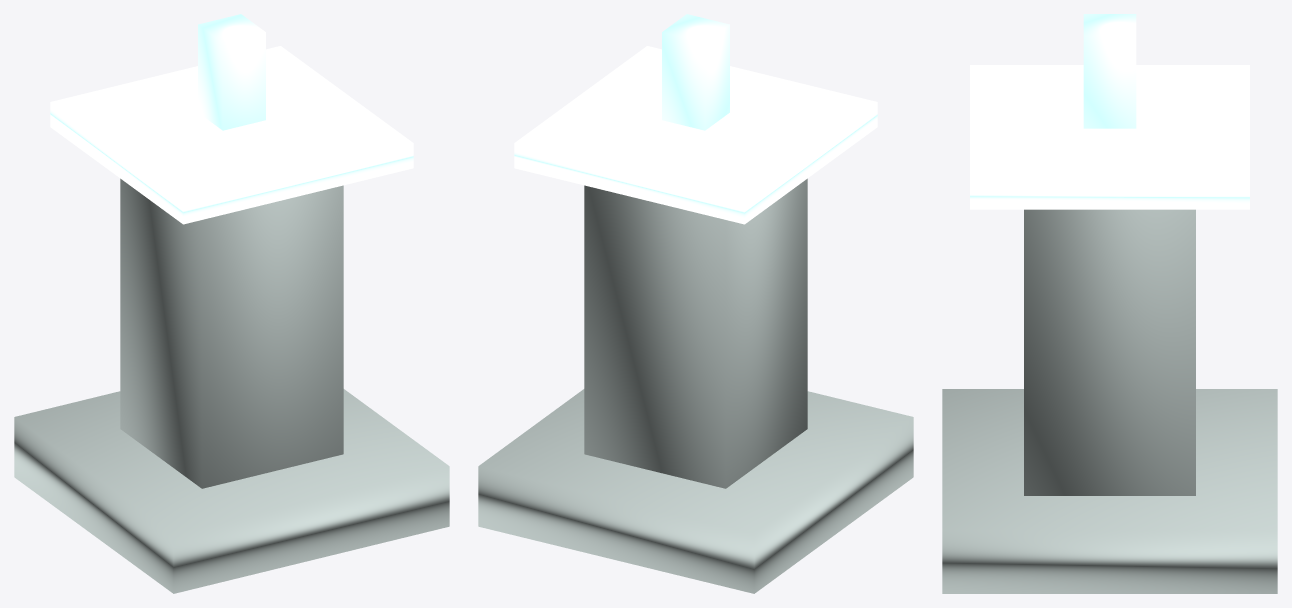
The model's file is spin-habitat-axis-hub-lod2.glb.
The picture shows the model from 3 angles, left to right: view 1: azimuth 30°, elevation 25°; view 2: azimuth 150°, elevation 25°; view 3: azimuth 270°, elevation 25°; orthographic projection. The views are drawn at different scales.
Visible parts, largest first — view 1: spin-habitat-axis-hub-core, spin-habitat-axis-hub-foot, spin-habitat-axis-hub-collar, spin-habitat-axis-hub-beacon; view 2: spin-habitat-axis-hub-core, spin-habitat-axis-hub-foot, spin-habitat-axis-hub-collar, spin-habitat-axis-hub-beacon; view 3: spin-habitat-axis-hub-foot, spin-habitat-axis-hub-core, spin-habitat-axis-hub-collar, spin-habitat-axis-hub-beacon.
Boxes of the visible parts, box(x1,y1,x2,y2) form: spin-habitat-axis-hub-core: box(120, 178, 343, 488); spin-habitat-axis-hub-foot: box(14, 389, 449, 593); spin-habitat-axis-hub-collar: box(50, 46, 413, 224); spin-habitat-axis-hub-beacon: box(198, 14, 265, 130); spin-habitat-axis-hub-core: box(584, 178, 807, 488); spin-habitat-axis-hub-foot: box(478, 389, 913, 593); spin-habitat-axis-hub-collar: box(514, 46, 877, 224); spin-habitat-axis-hub-beacon: box(662, 14, 729, 130); spin-habitat-axis-hub-foot: box(942, 389, 1277, 593); spin-habitat-axis-hub-core: box(1024, 209, 1195, 495); spin-habitat-axis-hub-collar: box(970, 65, 1249, 209); spin-habitat-axis-hub-beacon: box(1083, 14, 1136, 128).
Bounding box in the file's own units: 2.3 × 3.77 × 2.3.
